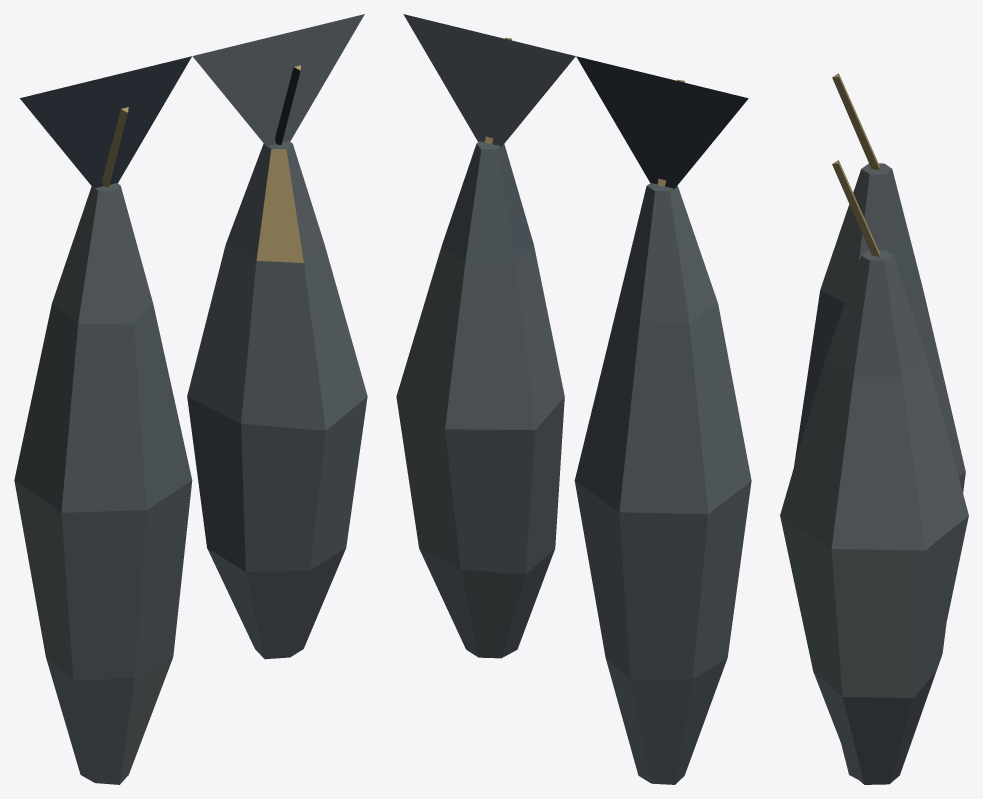
File: drying_rack_pesce_2.glb
3 renders of one model, left to right at view 1: azimuth 30°, elevation 25°; view 2: azimuth 150°, elevation 25°; view 3: azimuth 270°, elevation 25°, orthographic. The views are drawn at different scales.
Parts seen in each view (by area): view 1: drying_rack_pesce_2; view 2: drying_rack_pesce_2; view 3: drying_rack_pesce_2.
Part boxes in pixels (left/top/right/bottom): drying_rack_pesce_2: left=14, top=14, right=367, bottom=784; drying_rack_pesce_2: left=396, top=14, right=751, bottom=784; drying_rack_pesce_2: left=780, top=73, right=968, bottom=784.
Bounding box in the file's own units: 0.8 × 1.54 × 0.3685.
